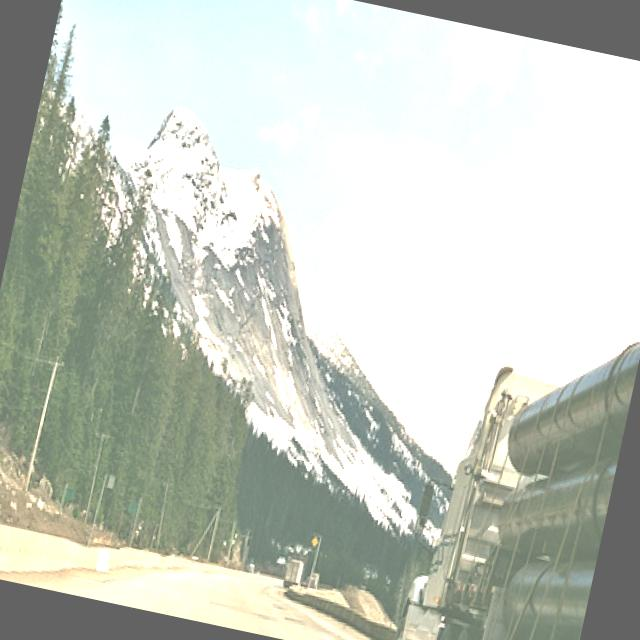Vehicle: (385, 288, 640, 640)
